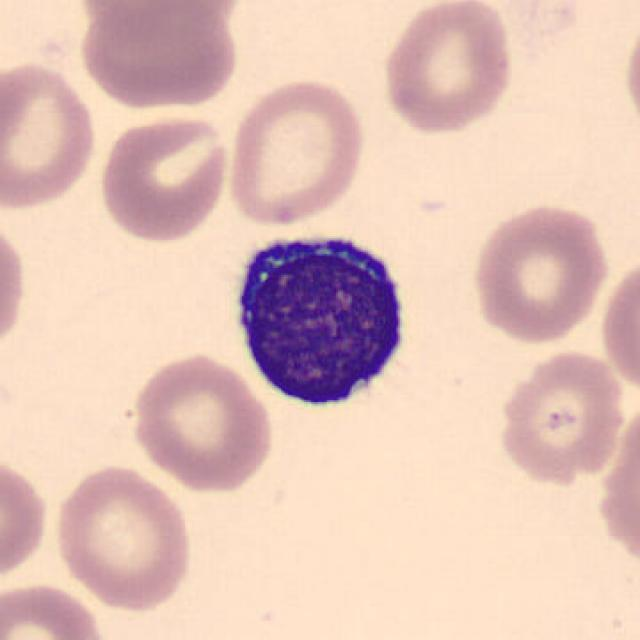Lymphocyte: (222, 218, 420, 418)
RBC: (222, 72, 370, 229), (50, 460, 196, 614), (126, 349, 278, 494), (468, 200, 612, 348), (379, 0, 519, 138), (494, 347, 630, 487), (73, 0, 242, 111), (94, 111, 233, 245), (0, 58, 100, 212), (0, 451, 52, 587), (595, 250, 640, 400), (0, 578, 108, 639), (71, 0, 242, 37), (0, 211, 32, 358), (620, 7, 640, 138)
